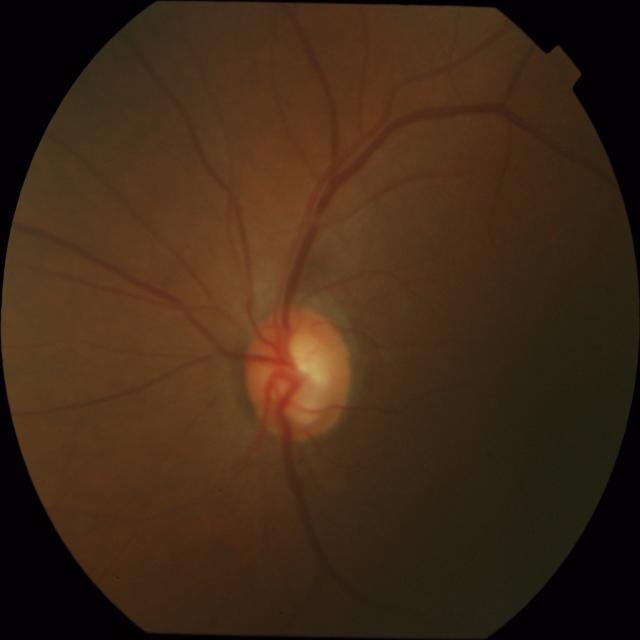OC: (264, 332, 332, 425)
OD: (242, 306, 354, 440)
